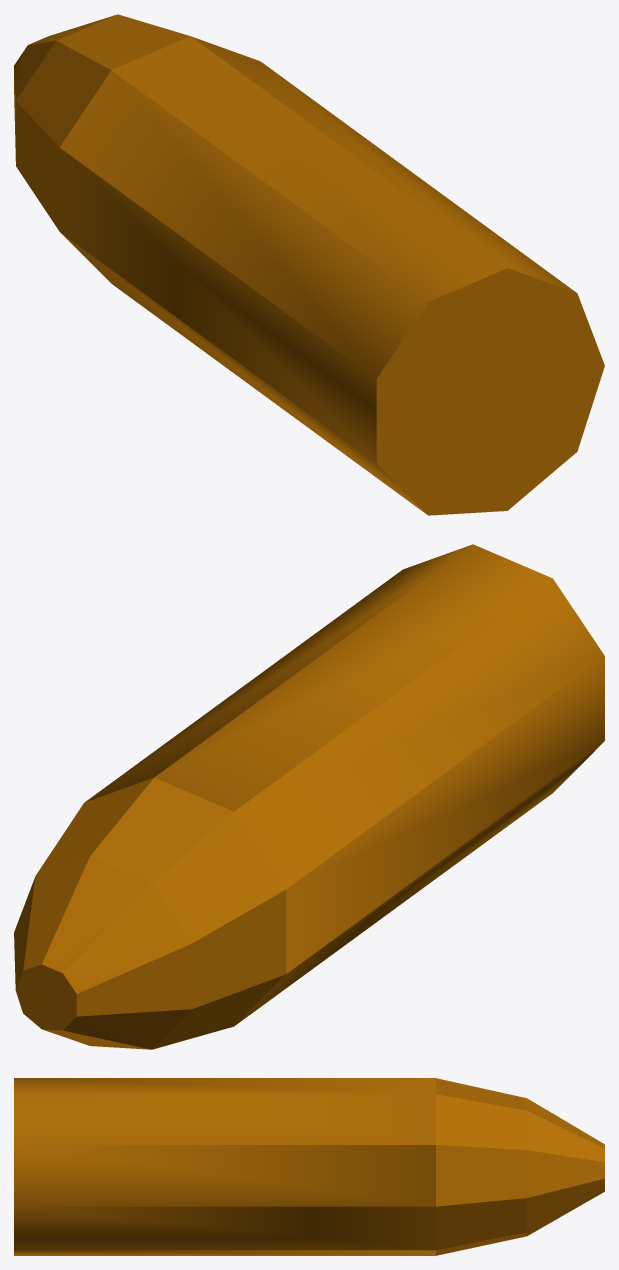
The model's file is Msh_Bullet.FBX.
3 views of the same model, one above another, from view 1: azimuth 30°, elevation 25°; view 2: azimuth 150°, elevation 25°; view 3: azimuth 270°, elevation 25° (orthographic). The views are drawn at different scales.
Visible parts, largest first — view 1: Msh_Bullet; view 2: Msh_Bullet; view 3: Msh_Bullet.
Boxes of the visible parts, x1,y1,x2,y2 form: Msh_Bullet: (14,14,604,515); Msh_Bullet: (14,544,604,1049); Msh_Bullet: (14,1078,604,1255).
Bounding box in the file's own units: 0.7575 × 2.55 × 0.7691.
